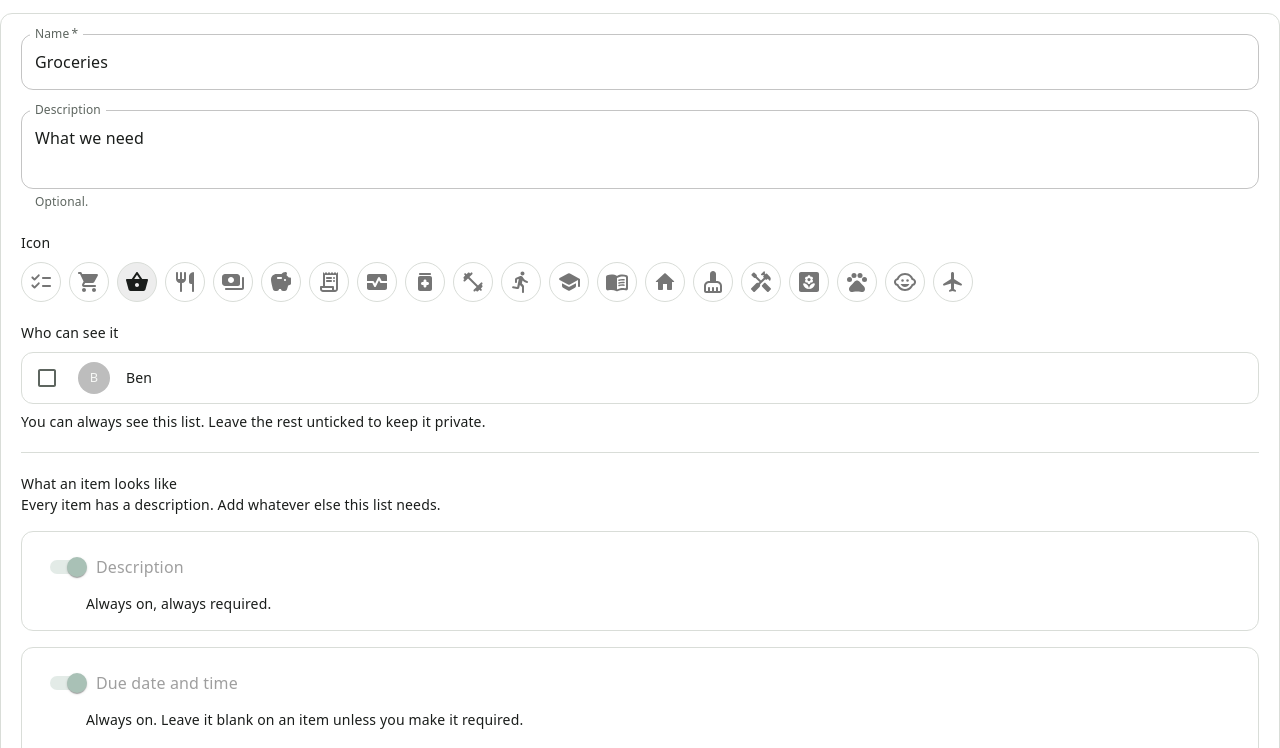
it: ListSettingsPage › tells the member their view went stale rather than discarding the other change
Type "!" into the field labelled "Name" at (640, 62), box [21,34,1259,90]
(page scrolled)
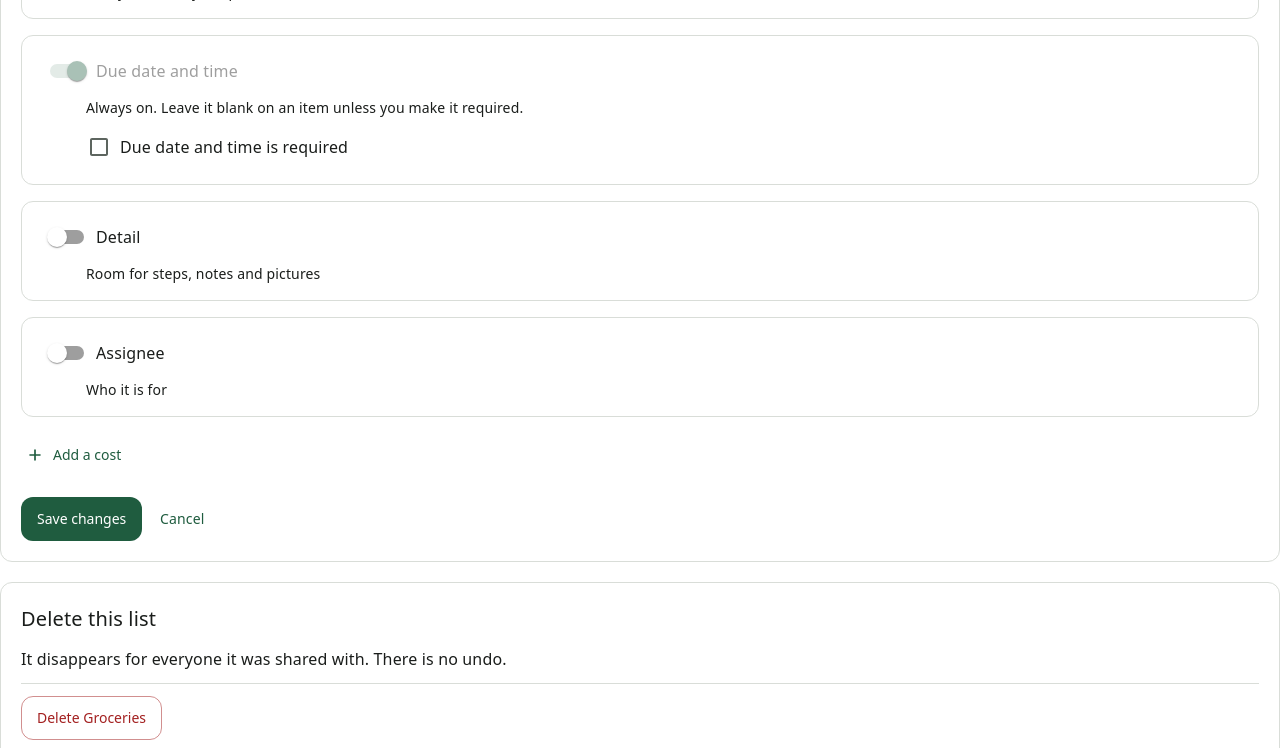
Click the button "Save changes" at (82, 519), box [21,497,142,541]
(page scrolled)
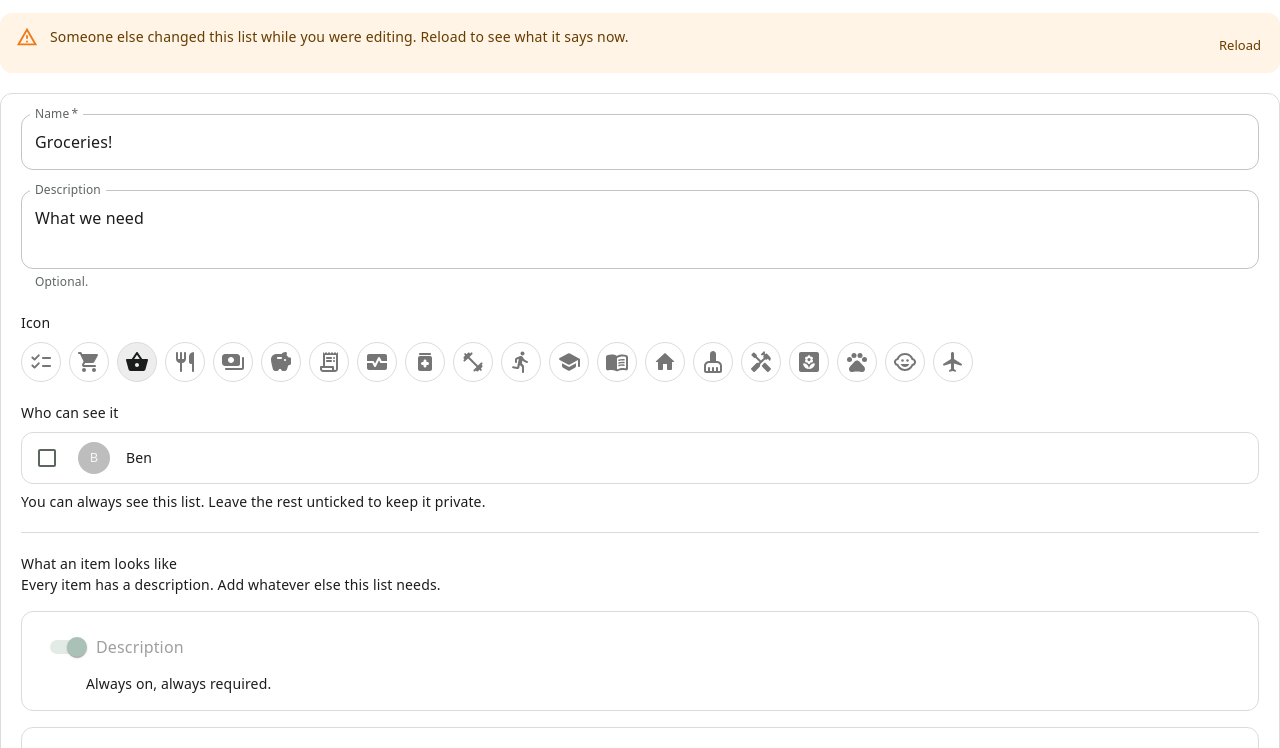
Now the text "Someone else changed this list" is shown, box [50,27,629,46]
Now the button "Reload" is shown, box [1208,23,1272,67]
